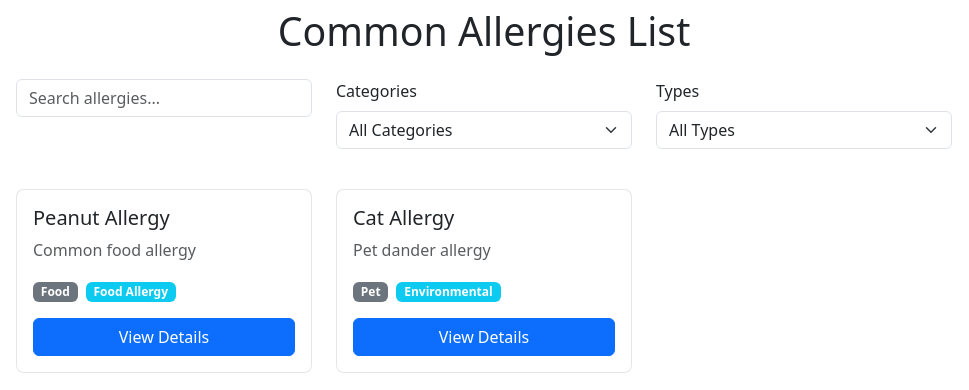
AllergyList › filters allergies by search term
The width and height of the screenshot is (969, 390).
Type "peanut" into the field with placeholder "Search allergies..." at {"x": 164, "y": 98}, box [16, 79, 312, 117]
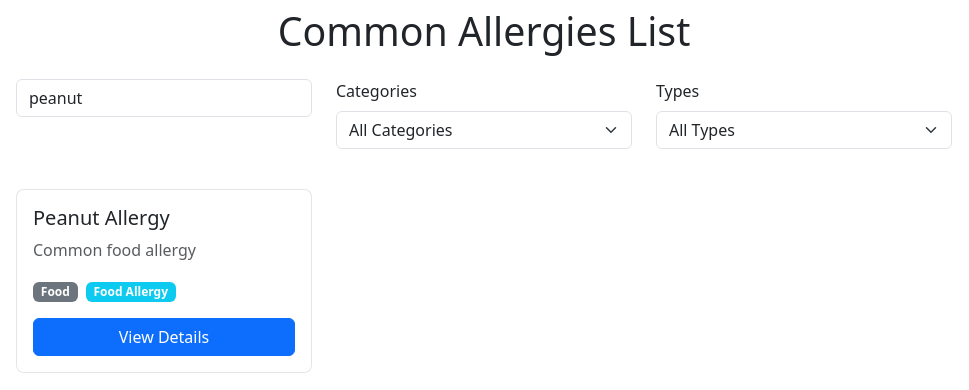
Check: the text "Peanut Allergy" is shown, box [33, 204, 170, 231]
Check: the text "Cat Allergy" is gone
